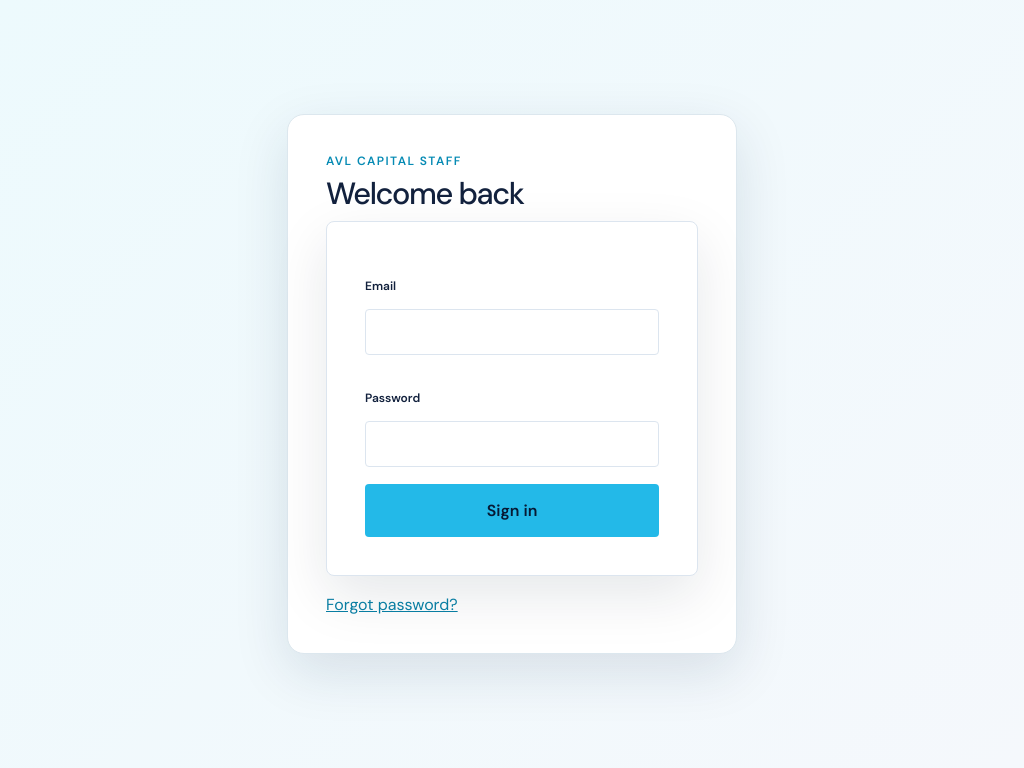
Test case: AVL routed website › logs in successfully and loads the inbox
This screenshot has width=1024, height=768.
Type "owner@example.com" into the field labelled "Email".
click(512, 332); type("owner@example.com")  # box [365,309,659,355]
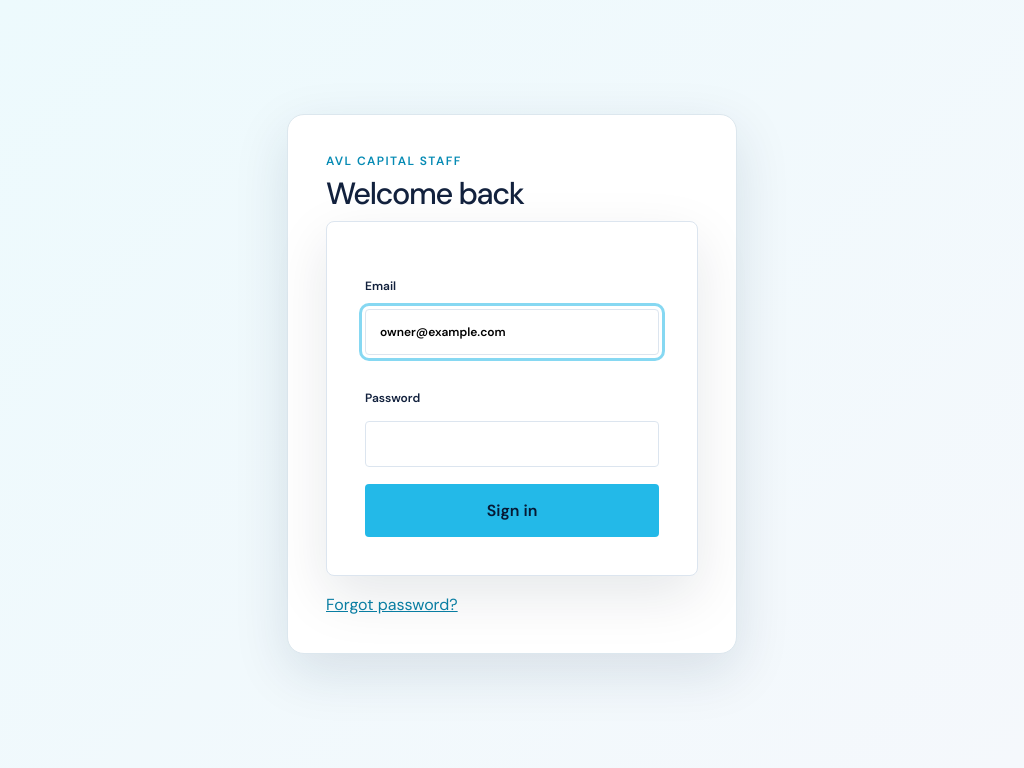
Type "very-long-password" into the password field labelled "Password".
click(512, 444); type("very-long-password")  # box [365,421,659,467]
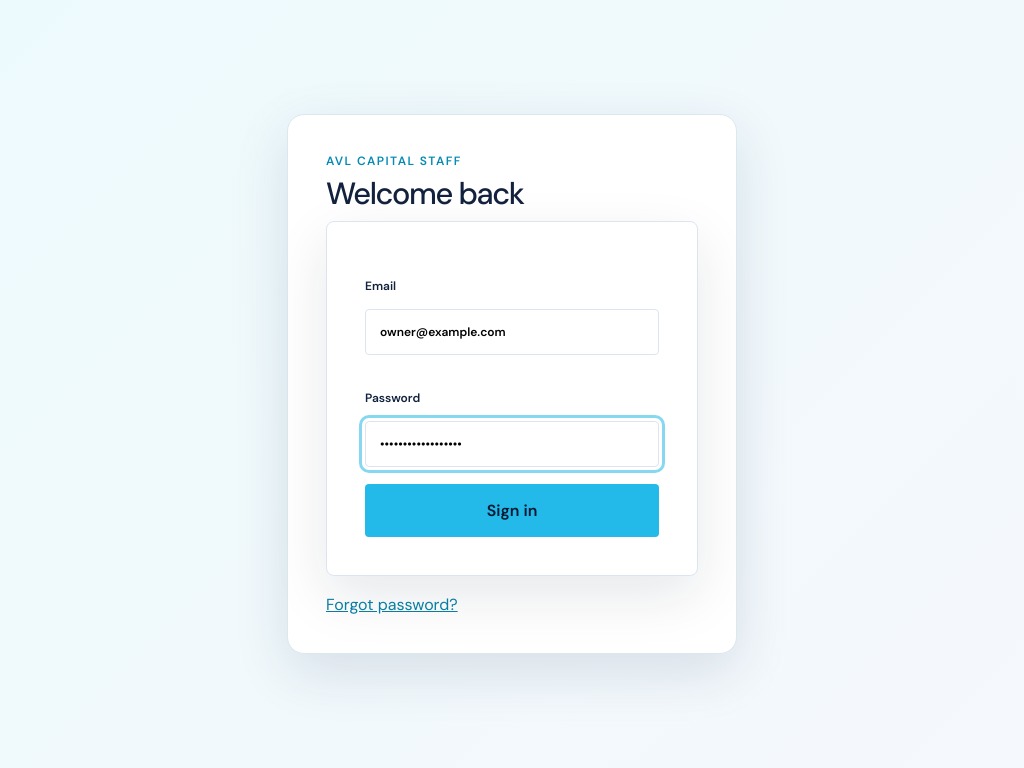
Click the button "Sign in".
click(512, 510)  # box [365,484,659,537]
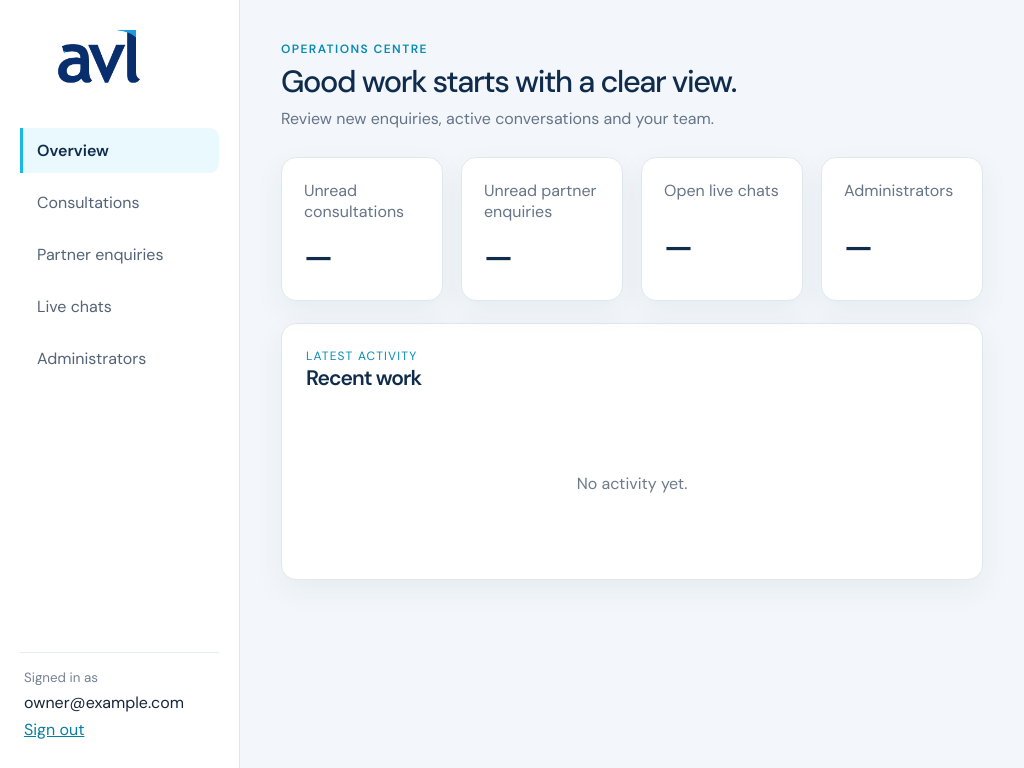
expect the text "owner@example.com" is shown: met, box [24,692,184,713]
